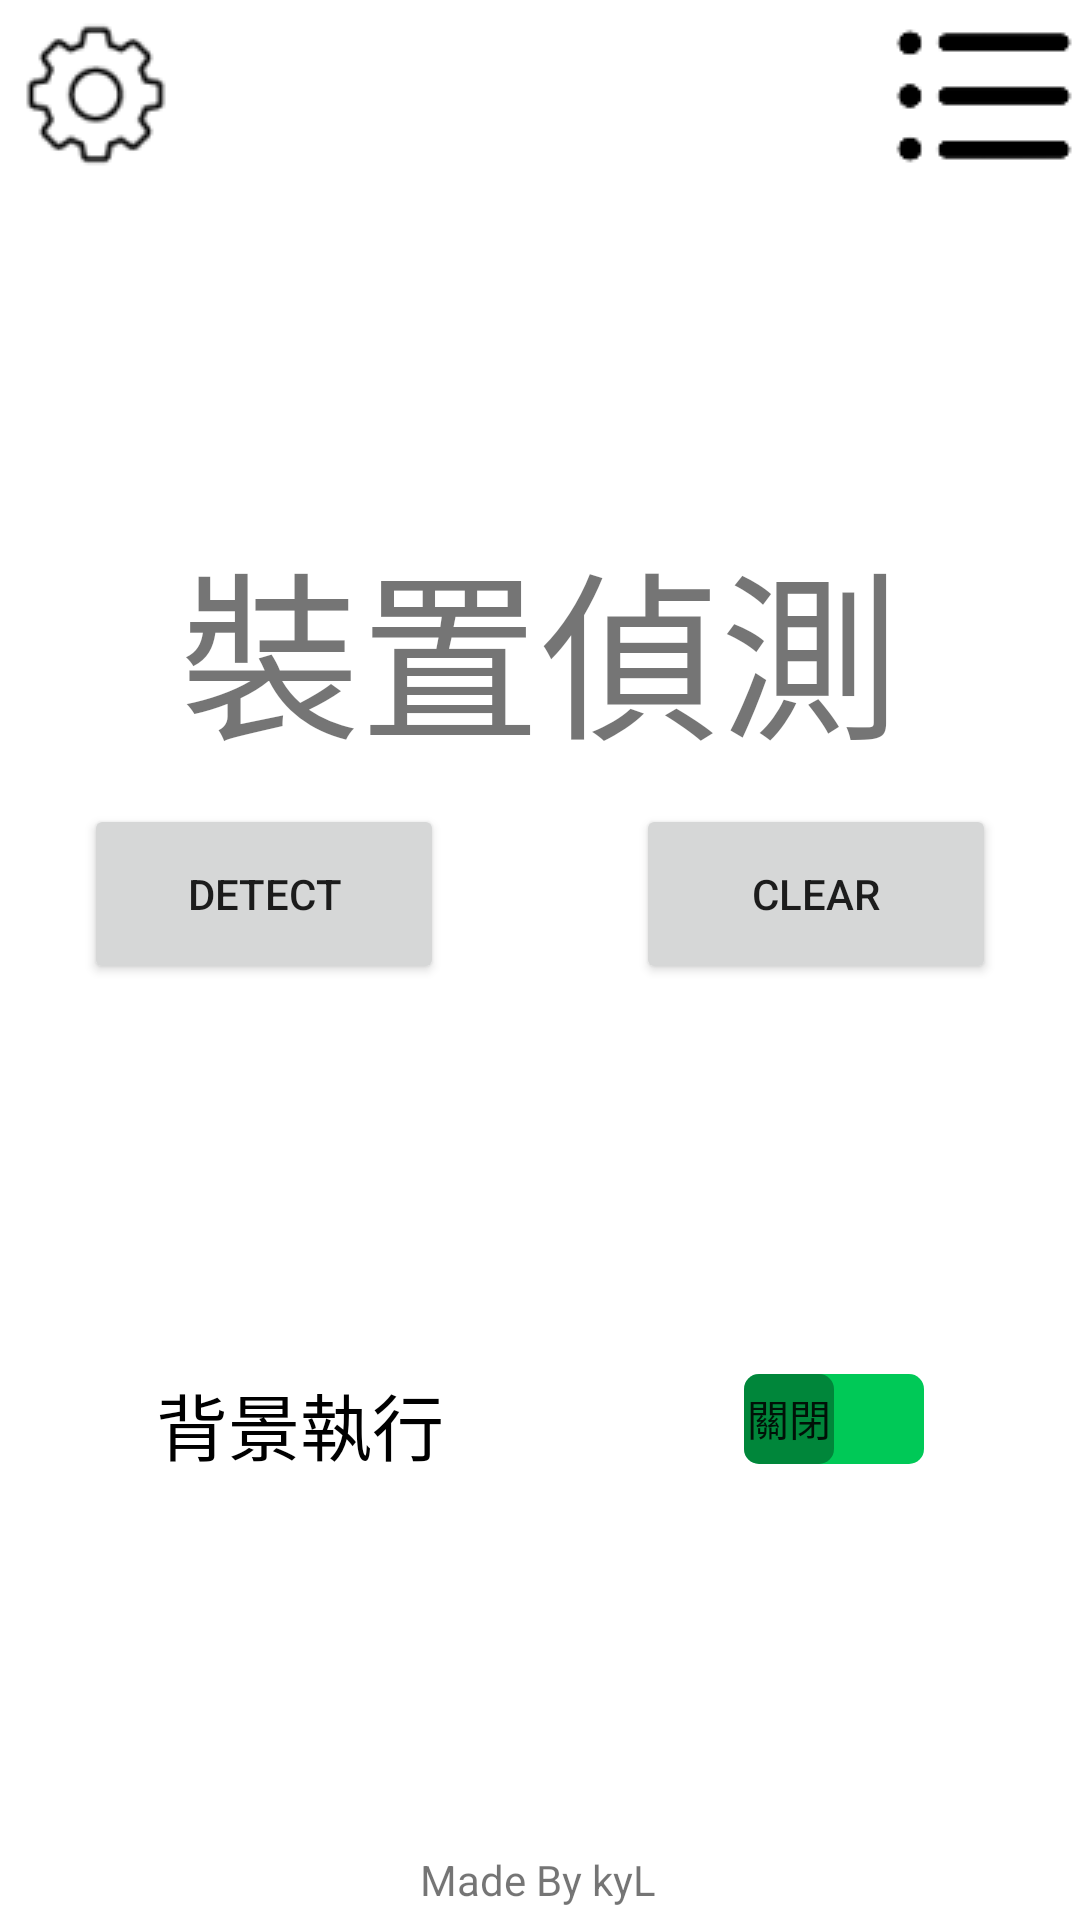

Icon click points for this 1080 x 1920 phone screenshot, format point (x, y):
gear: point (96, 95)
menu: point (984, 96)
